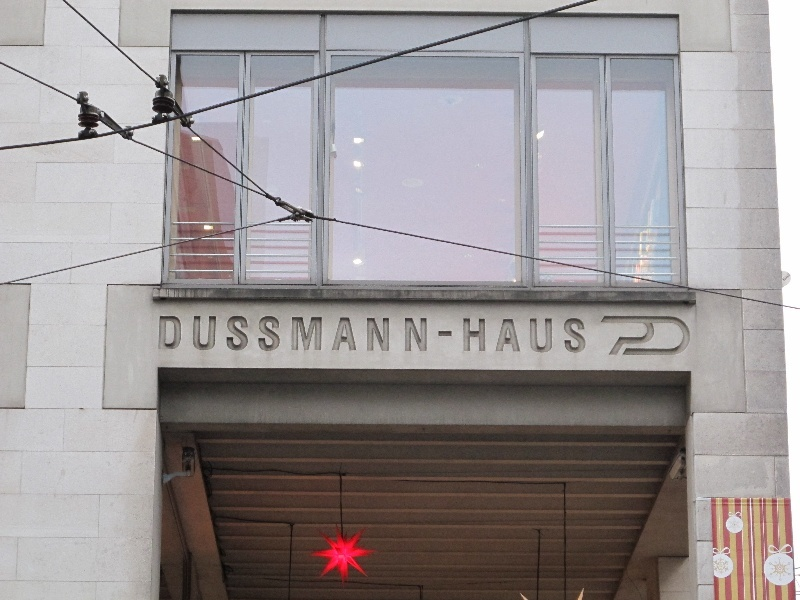text: (161, 314, 176, 356), (177, 314, 192, 356), (193, 314, 208, 356), (209, 314, 224, 356), (225, 314, 240, 356), (241, 314, 256, 356), (257, 314, 272, 356), (273, 314, 288, 356), (289, 314, 304, 356), (305, 314, 320, 356), (321, 314, 336, 356), (337, 314, 352, 356), (353, 314, 368, 356), (369, 314, 384, 356), (385, 314, 400, 356), (401, 314, 416, 356), (417, 314, 432, 356), (433, 314, 448, 356), (449, 314, 464, 356), (465, 314, 480, 356), (481, 314, 496, 356), (497, 314, 512, 356), (513, 314, 528, 356), (529, 314, 544, 356), (545, 314, 560, 356), (561, 314, 576, 356), (577, 314, 588, 356), (158, 314, 160, 356)
